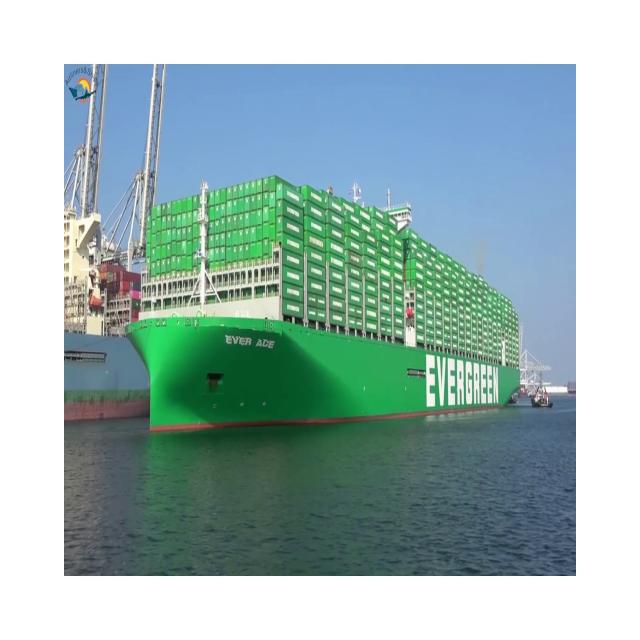OCR: (218, 322, 282, 360)
